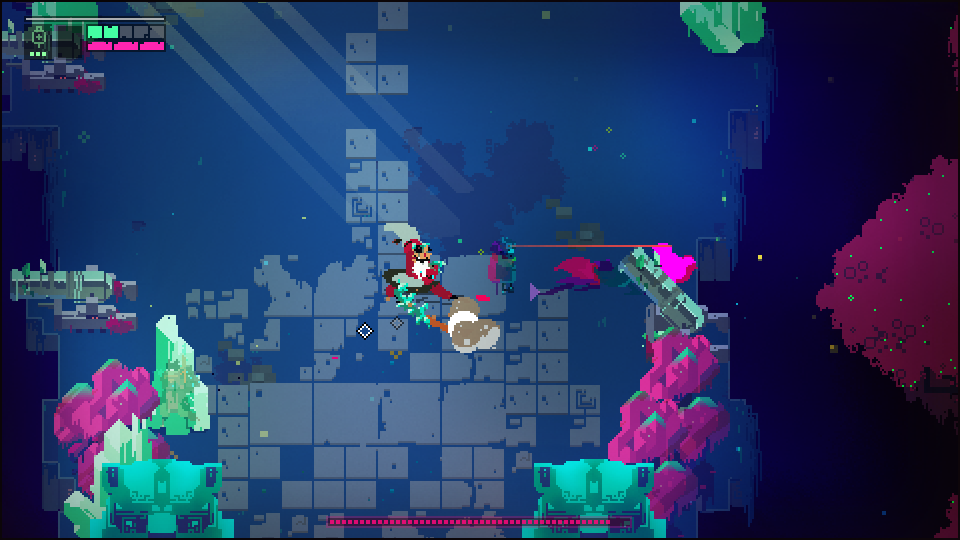hanged_man: (381, 219, 464, 335)
player: (656, 244, 693, 281)
